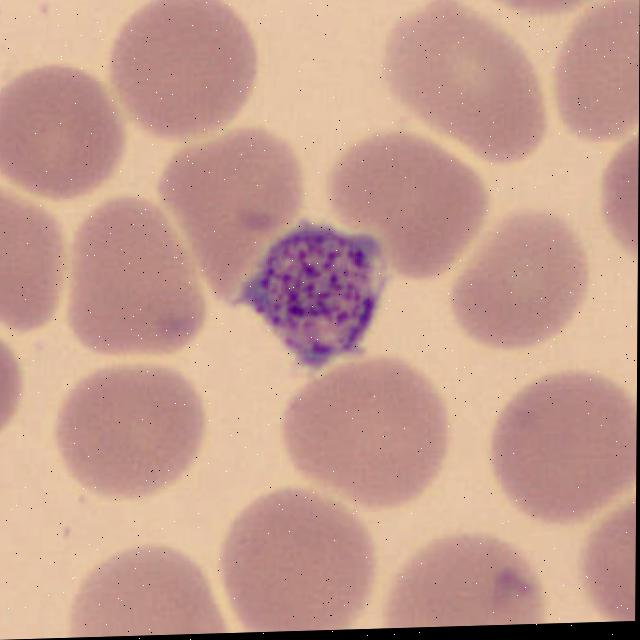platelets: (250, 225, 382, 376)
rbc: (380, 6, 548, 185), (263, 358, 452, 514), (470, 362, 637, 531), (314, 131, 490, 287), (208, 474, 376, 634), (56, 357, 225, 513), (101, 0, 268, 145), (158, 133, 298, 305), (438, 214, 608, 352), (0, 62, 133, 201), (380, 526, 556, 628), (64, 540, 242, 638), (554, 0, 640, 145), (0, 185, 65, 340), (592, 135, 639, 304), (572, 504, 636, 623), (0, 323, 43, 447), (479, 0, 612, 23)
